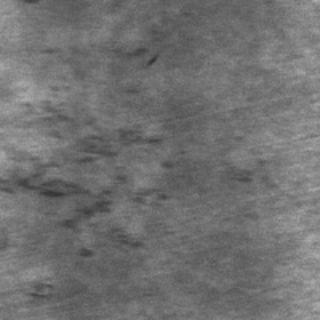rolled pit: (0, 98, 164, 258), (42, 32, 162, 88)
